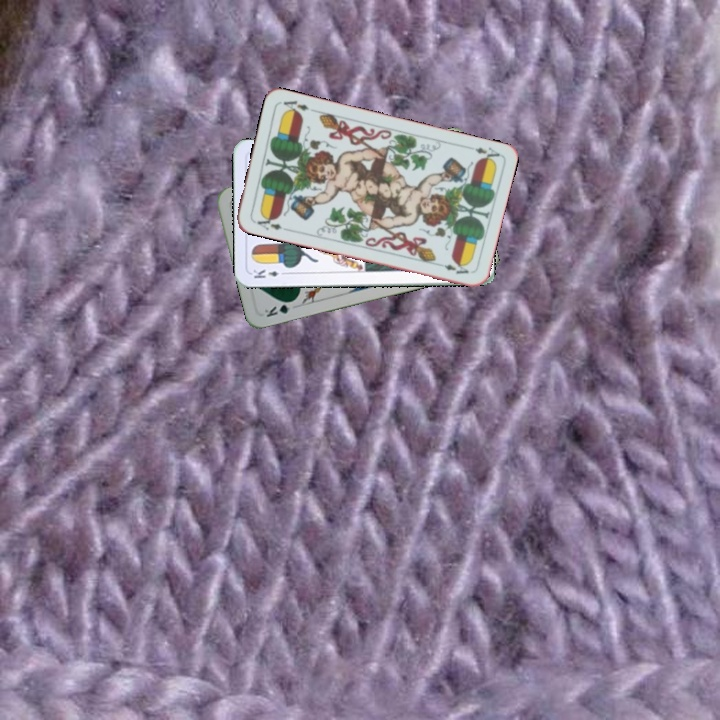EA: (250, 211, 290, 233), (471, 143, 502, 164)
EK: (249, 266, 289, 281)
GK: (260, 296, 298, 320)
